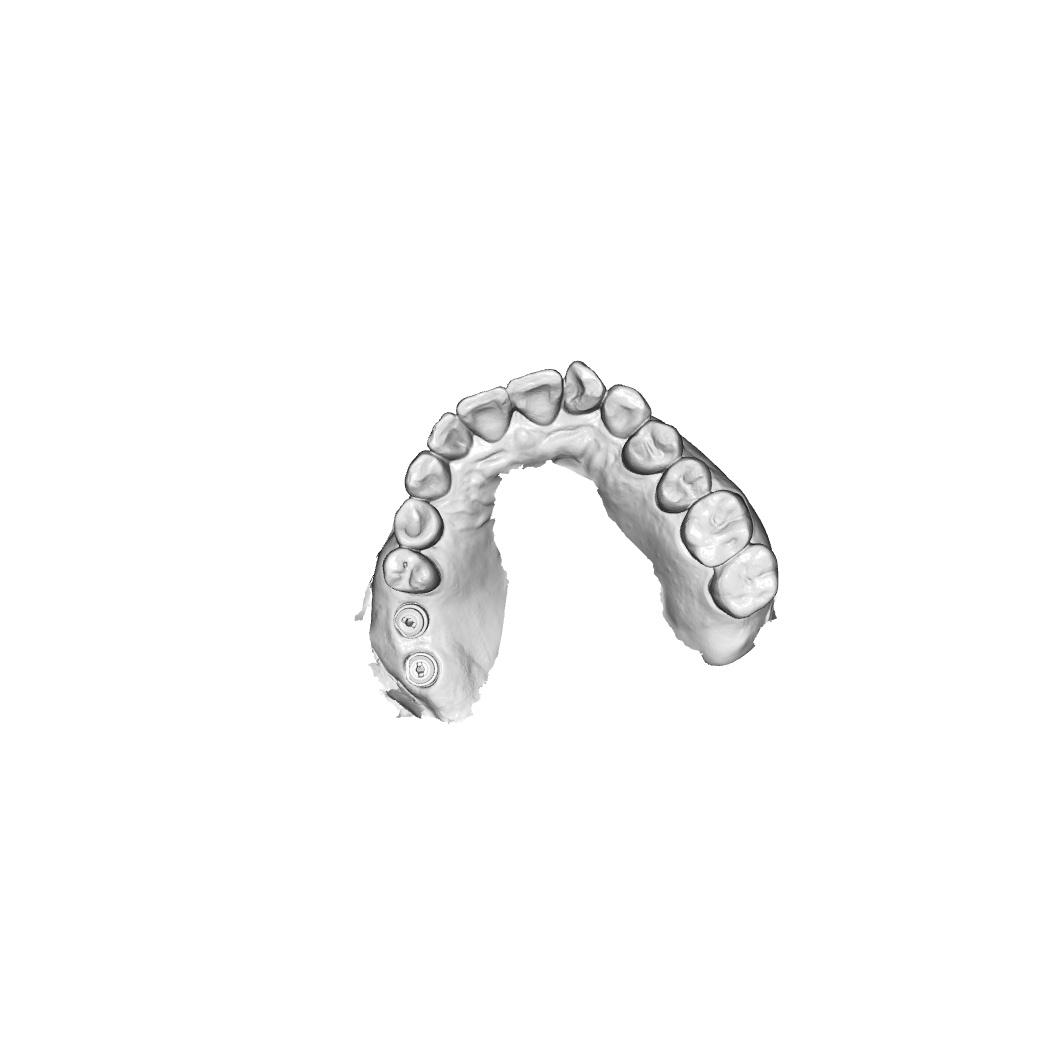canine: (599, 382, 652, 439), (403, 449, 453, 500)
implant_minus: (392, 601, 431, 640), (403, 650, 440, 688)
incisor: (506, 367, 564, 427), (456, 385, 514, 444), (561, 359, 607, 416), (425, 411, 475, 463)
molar: (678, 489, 754, 569), (707, 541, 779, 621)
premolar: (620, 418, 685, 477), (653, 455, 713, 514), (381, 546, 443, 595), (392, 498, 445, 551)
